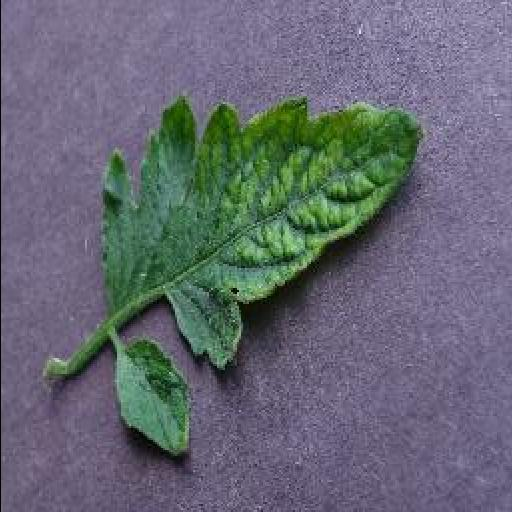disease_tomato: (94, 96, 424, 368), (112, 334, 196, 460)
